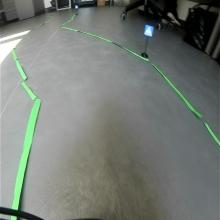crosswalk: (144, 24, 154, 38)
